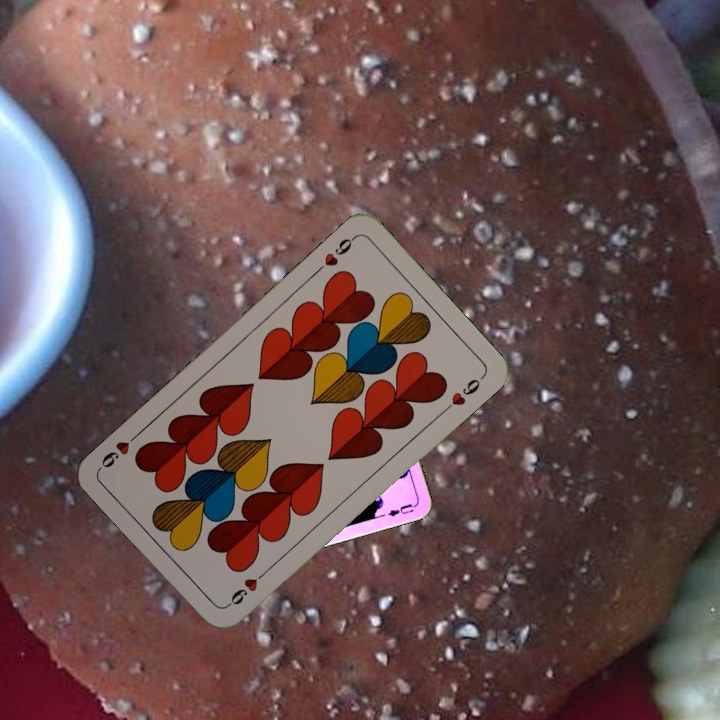H9: (222, 566, 271, 610), (311, 232, 359, 276)
